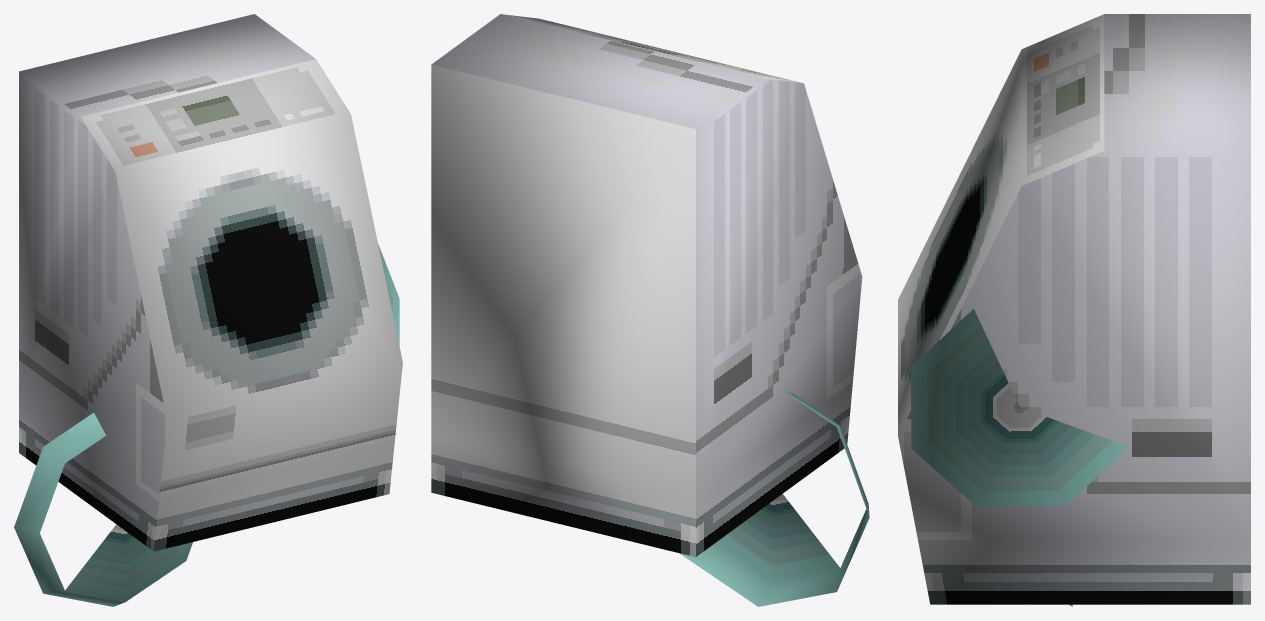
3 views of the same model, side by side, from view 1: azimuth 30°, elevation 25°; view 2: azimuth 150°, elevation 25°; view 3: azimuth 270°, elevation 25° (orthographic). The views are drawn at different scales.
Parts seen in each view (by area): view 1: 3530IMEL01_31; view 2: 3530IMEL01_31; view 3: 3530IMEL01_31.
Part boxes in pixels (x1,y1,x2,y2): 3530IMEL01_31: [14, 14, 402, 606]; 3530IMEL01_31: [431, 14, 869, 606]; 3530IMEL01_31: [898, 14, 1250, 606].
Size of the model in its own units: 1.21 by 1.76 by 0.9768.
4 materials, 4 textured.
